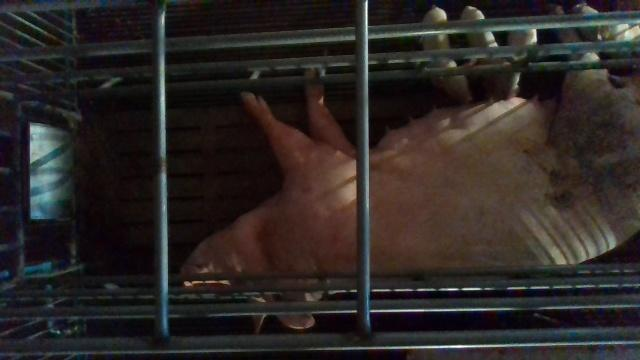piglet: (417, 7, 472, 104), (459, 5, 502, 77), (493, 31, 536, 99)
sow-sleep-lactate: (180, 5, 640, 334)
